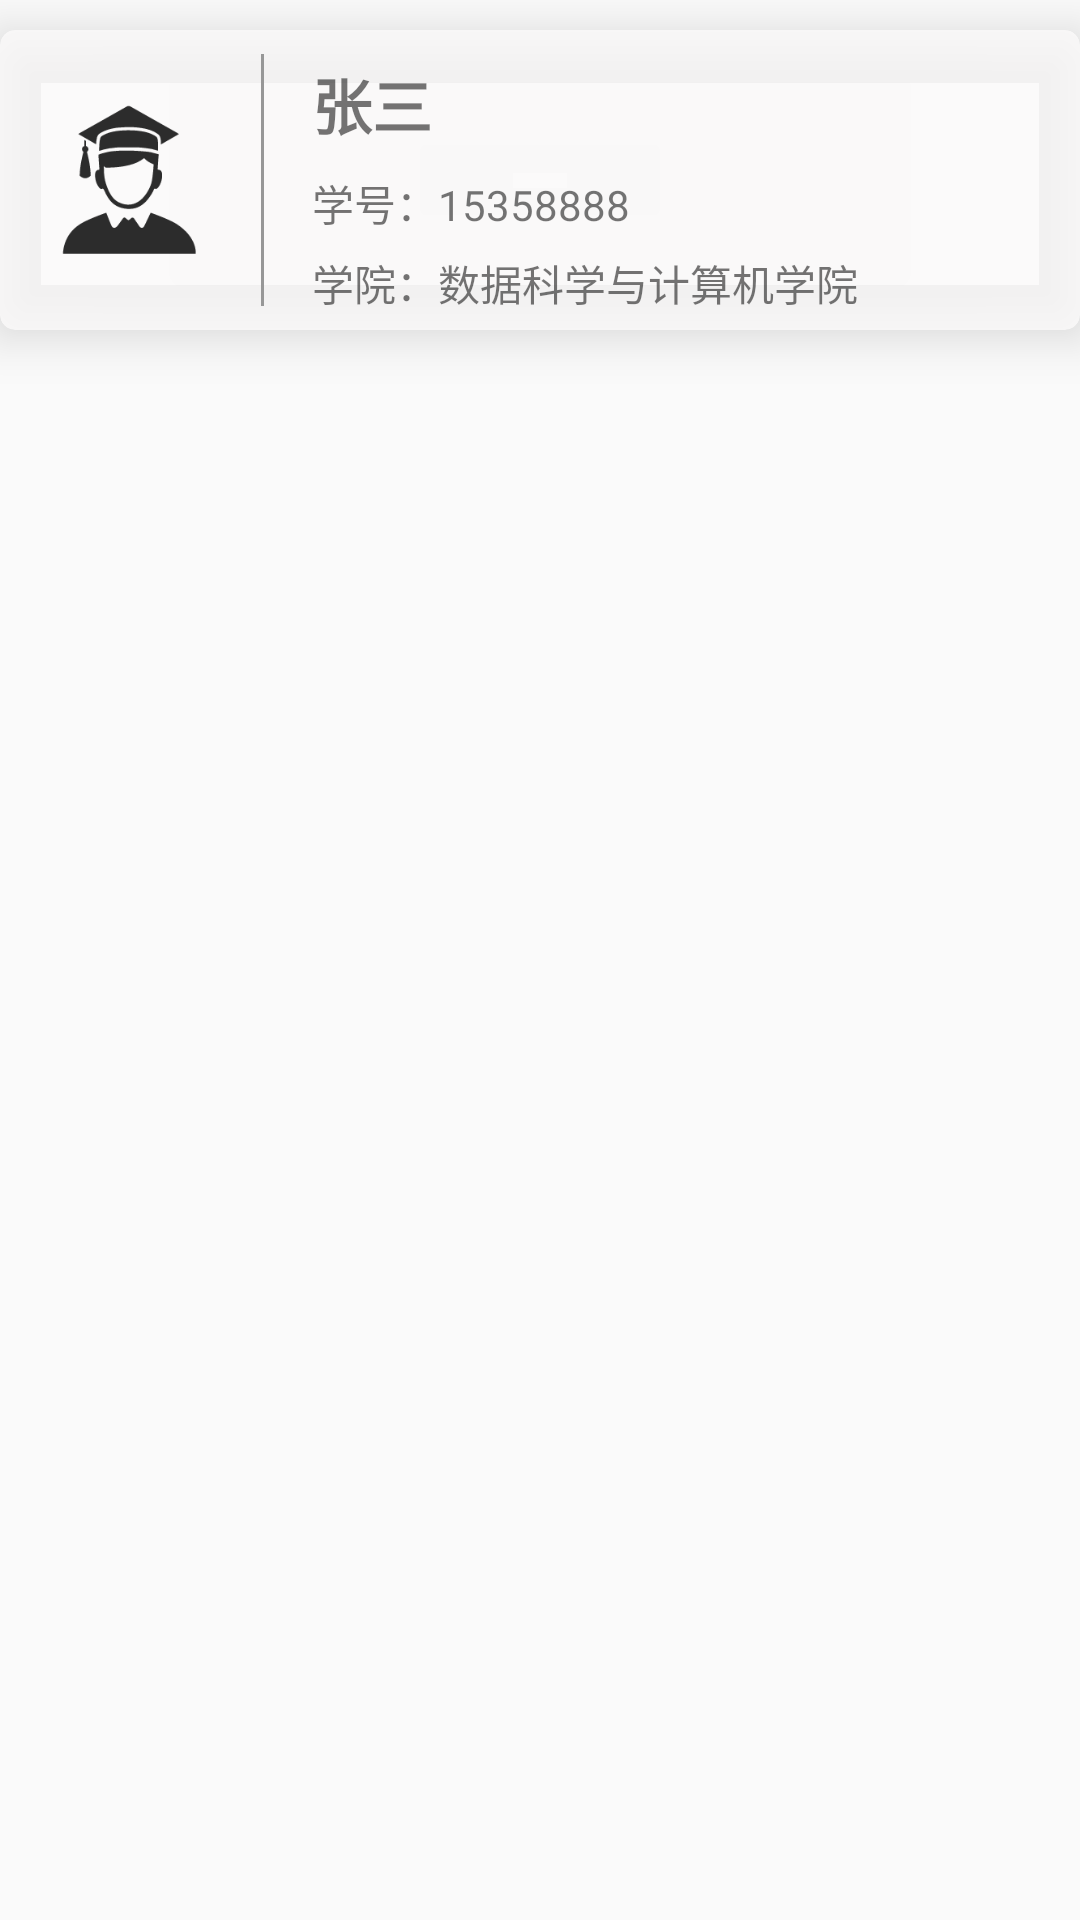

Where icons sit on this 1080px×1920px app screen, as [x1, y1, x2, y2]:
student: [62, 105, 196, 254]
